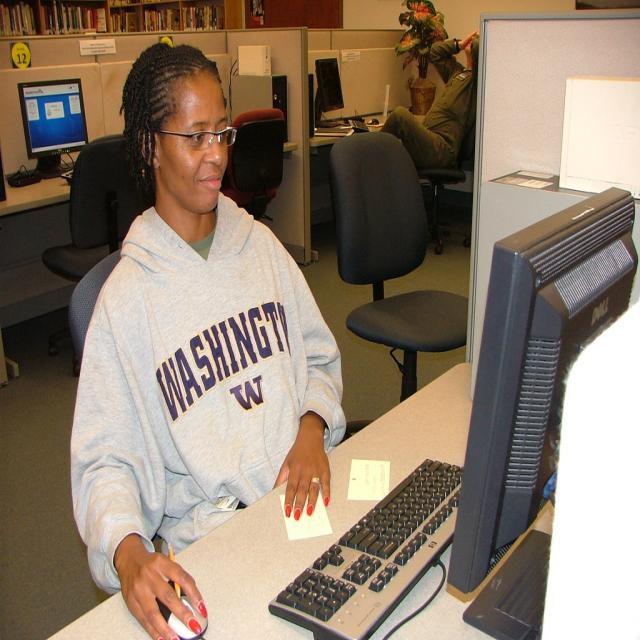chair: (328, 131, 469, 404), (42, 134, 134, 286), (222, 108, 286, 220), (69, 251, 122, 375)
desk: (47, 359, 540, 640)
keyboard: (268, 457, 463, 638)
mouse: (157, 579, 209, 640)
person: (69, 42, 346, 635), (379, 29, 479, 187)
tv: (448, 182, 638, 598), (18, 80, 88, 159), (314, 55, 344, 115)
